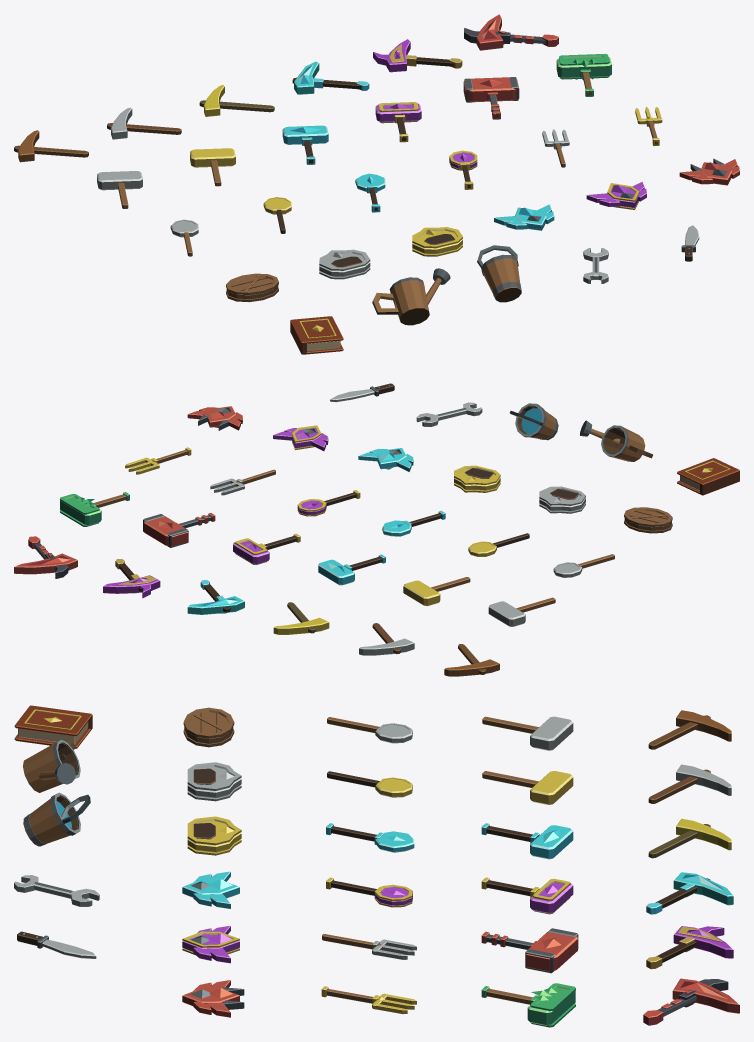
File: picaretas-e-ferramentas.fbx
The picture shows the model from 3 angles, top to bottom: view 1: azimuth 30°, elevation 25°; view 2: azimuth 150°, elevation 25°; view 3: azimuth 270°, elevation 25°; orthographic projection. The views are drawn at different scales.
Visible parts, largest first — view 1: watering_can, bucket, book, reidite_hammer, super_hammer, reidite_pickaxe, stone_shield, gold_shield, wood_shield, amethyst_pickaxe, reidite_shield, amethyst_hammer (+12 smaller); view 2: book, watering_can, reidite_hammer, super_hammer, bucket, reidite_pickaxe, stone_shield, gold_shield, wood_shield, amethyst_pickaxe, diamond_pickaxe, amethyst_hammer (+17 smaller); view 3: book, bucket, reidite_hammer, watering_can, reidite_pickaxe, super_hammer, gold_shield, stone_shield, amethyst_pickaxe, wood_shield, amethyst_hammer, reidite_shield (+17 smaller).
Boxes of the visible parts, x1,y1,x2,y2 form: watering_can: (372, 268, 450, 325); bucket: (477, 245, 521, 302); book: (290, 316, 343, 354); reidite_hammer: (463, 77, 519, 119); super_hammer: (556, 53, 611, 96); reidite_pickaxe: (464, 14, 558, 50); stone_shield: (319, 249, 370, 279); gold_shield: (412, 227, 462, 256); wood_shield: (226, 273, 278, 302); amethyst_pickaxe: (373, 39, 462, 72); reidite_shield: (679, 158, 739, 185); amethyst_hammer: (375, 102, 421, 142); book: (677, 458, 739, 495); watering_can: (580, 420, 652, 461); reidite_hammer: (143, 513, 215, 547); super_hammer: (60, 492, 129, 526); bucket: (510, 403, 558, 440); reidite_pickaxe: (14, 536, 77, 578); stone_shield: (539, 486, 585, 513); gold_shield: (454, 465, 500, 492); wood_shield: (624, 507, 672, 533); amethyst_pickaxe: (103, 559, 160, 598); diamond_pickaxe: (187, 580, 244, 614); amethyst_hammer: (233, 533, 300, 564); book: (14, 705, 92, 748); bucket: (23, 792, 90, 846); reidite_hammer: (481, 928, 578, 973); watering_can: (23, 740, 80, 792); reidite_pickaxe: (643, 978, 739, 1025); super_hammer: (481, 983, 575, 1027); gold_shield: (187, 816, 241, 855); stone_shield: (187, 762, 241, 801); amethyst_pickaxe: (646, 926, 733, 969); wood_shield: (183, 707, 234, 747); amethyst_hammer: (481, 877, 573, 914); reidite_shield: (182, 980, 244, 1017).
Bounding box in the file's own units: 19 × 1.66 × 18.66.
Materials: 1 (1 with a texture image).
